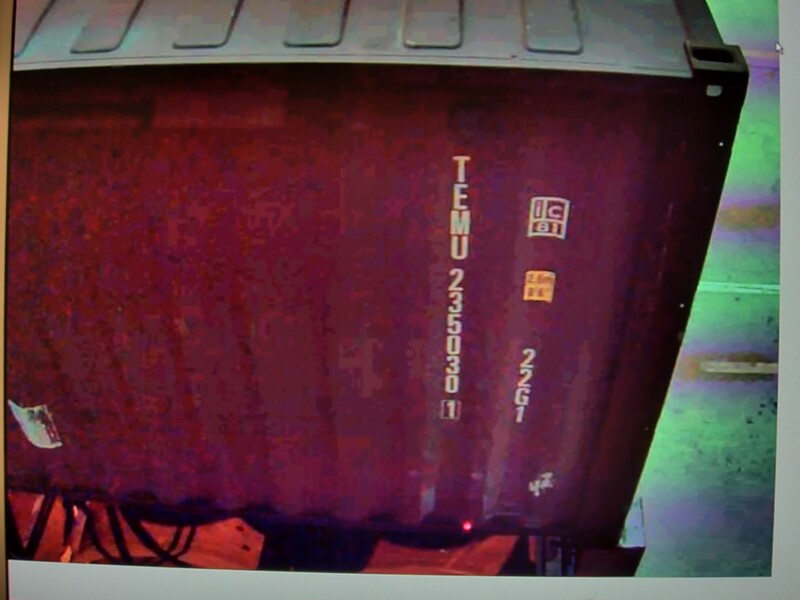container_no_door: (31, 107, 572, 479)
